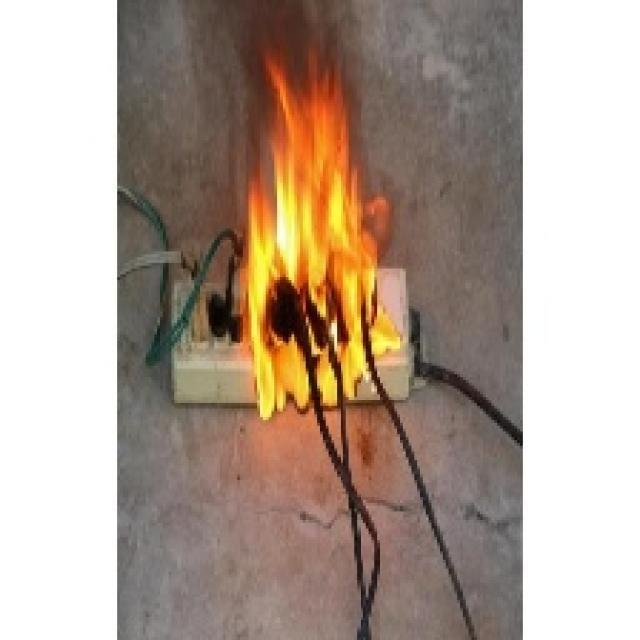Fire: (237, 53, 405, 420)
